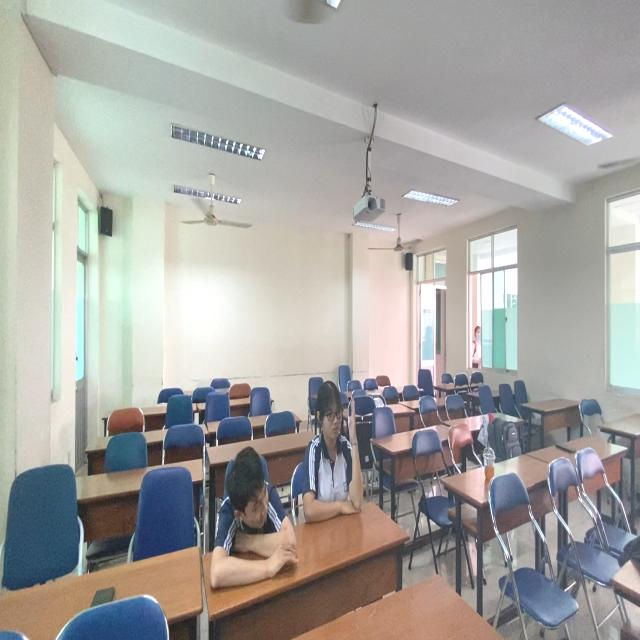raise_hand: (299, 382, 367, 536)
